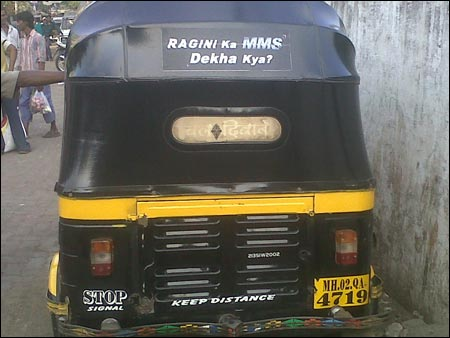doublelinenumberplate: (313, 277, 371, 308)
